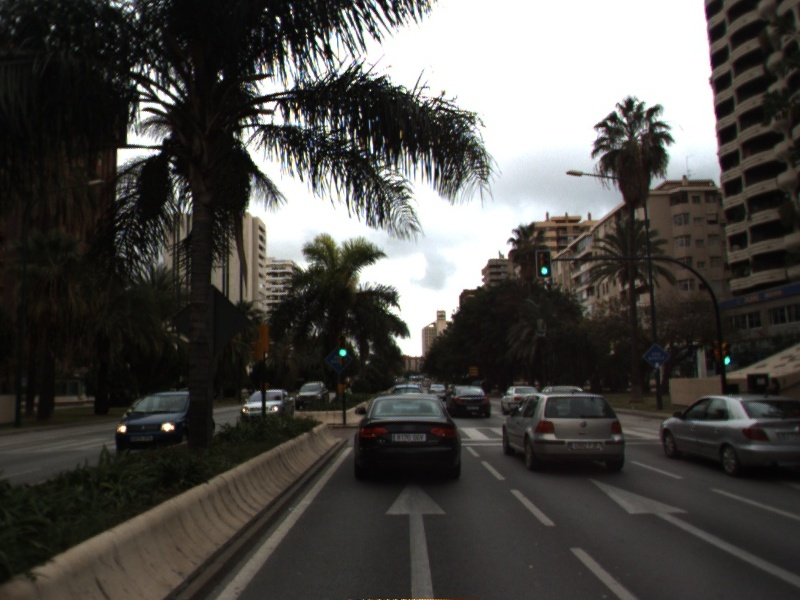STRAIGHT: (583, 474, 800, 586), (381, 480, 452, 600)
